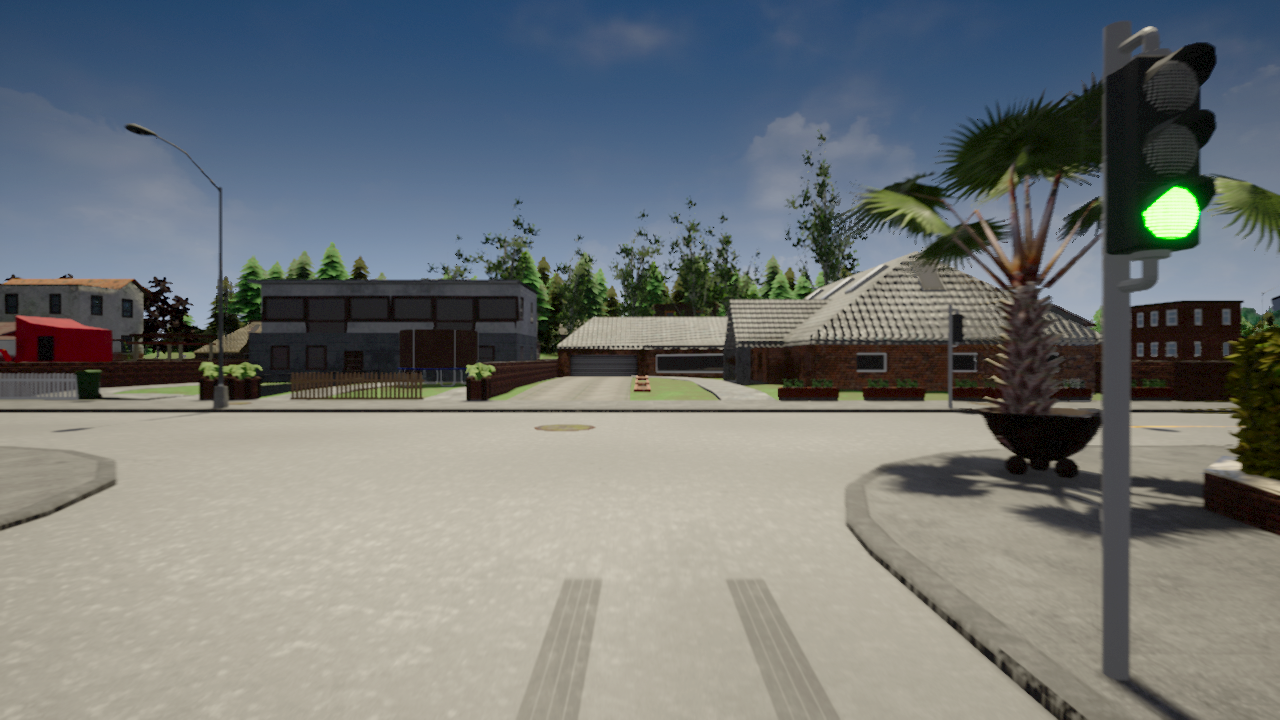green: (1108, 41, 1228, 260)
